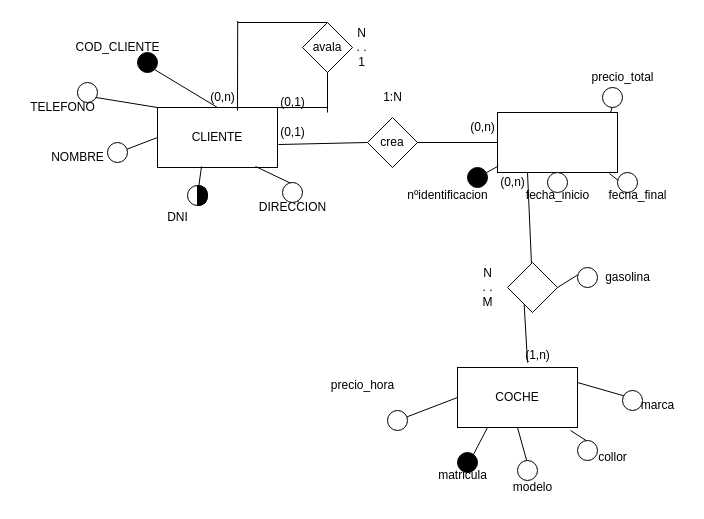
Some shapes in this 704 by 519 pixel diagram are drawn without their labels. Here are the shapes that lost their labels. From the top down, the centre of each, then its label:
At (x=557, y=142): "RESERVA".
At (x=532, y=287): "reseva".
